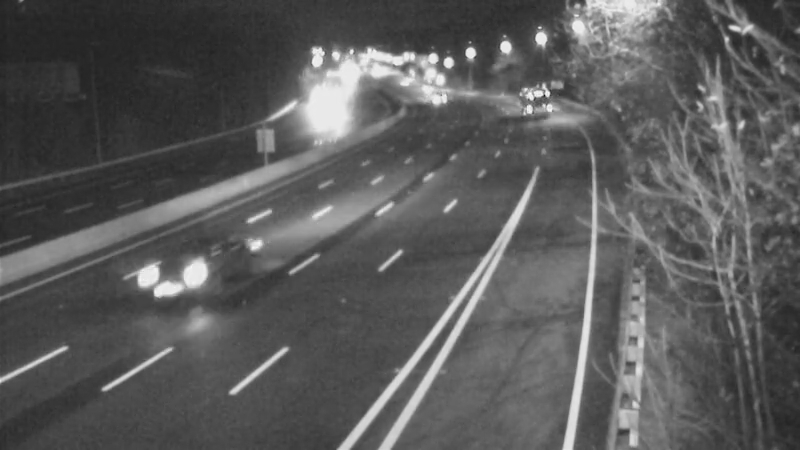vehicle: (133, 235, 213, 315), (411, 70, 461, 120), (502, 75, 552, 125), (298, 88, 348, 138)
